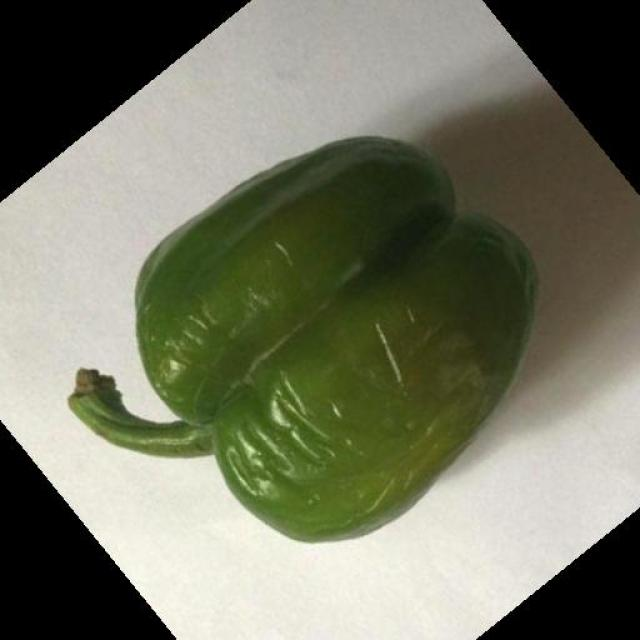Stale_Capsicum: (87, 142, 555, 584)
